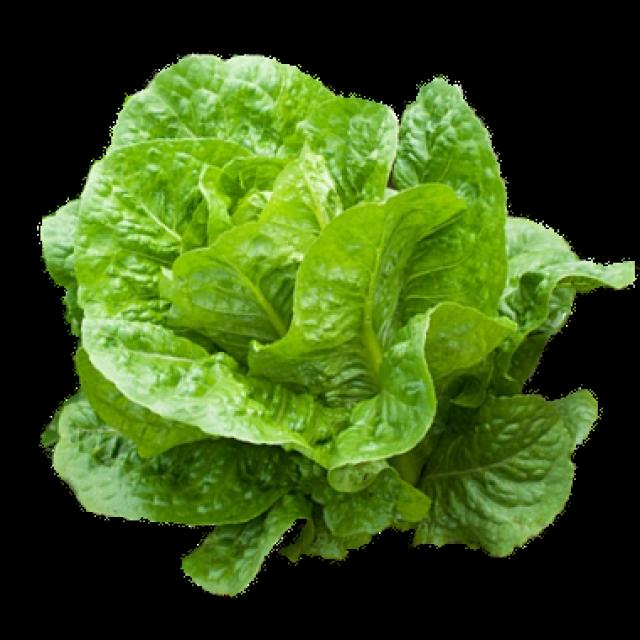Lettuce head: (42, 55, 599, 572)
